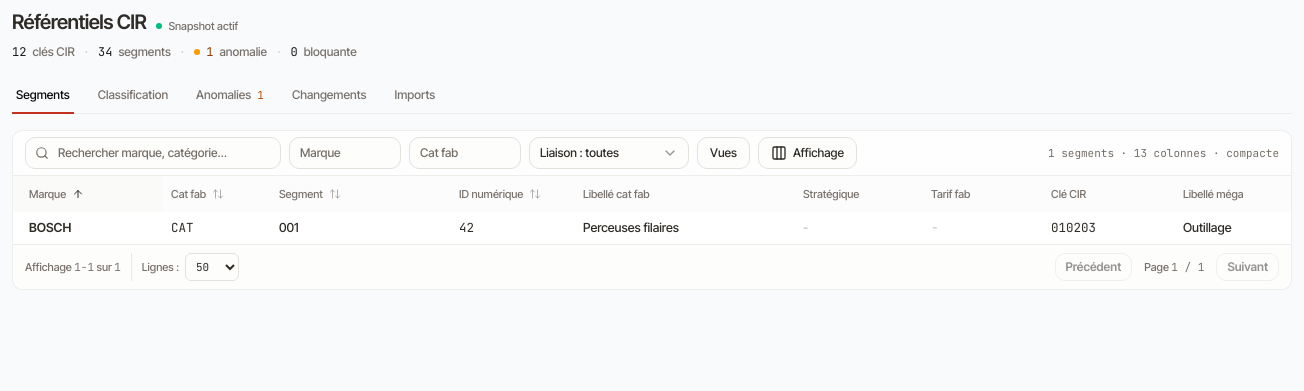
Test: PricingReferencesPage › renders the CIR referentials workspace with import and consultation tabs
Expected: the heading "Référentiels CIR" is shown, [12,12,146,32]
Expected: the tab "Classification" is shown, [94,78,172,113]
Click the tab "Imports". click: (415, 95)
box: [390,77,439,113]
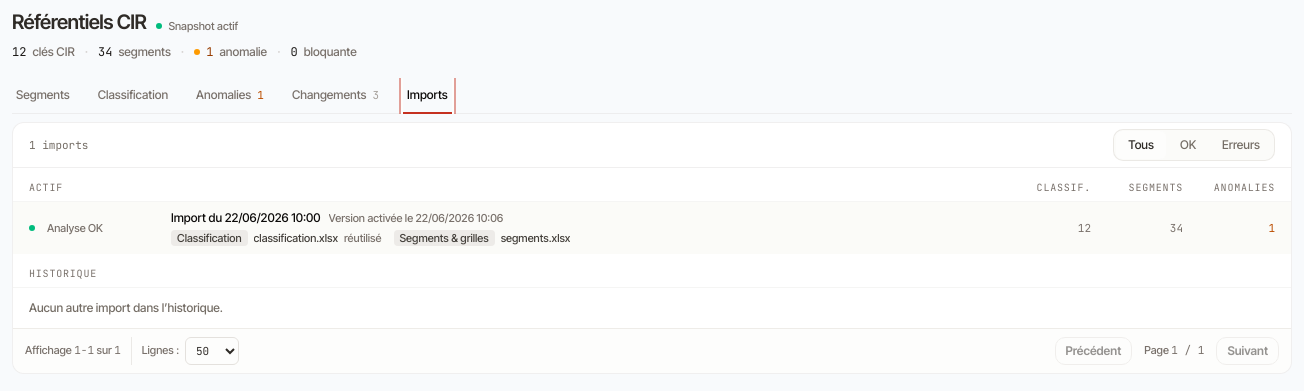
Result: the text "Actif" is shown at [29,180,63,195]
Result: the text "Historique" is shown at [29,266,97,281]
Result: the button with aria-label "voir le détail de l'import du" shows "Analyse OK" at [13,202,1291,254]
